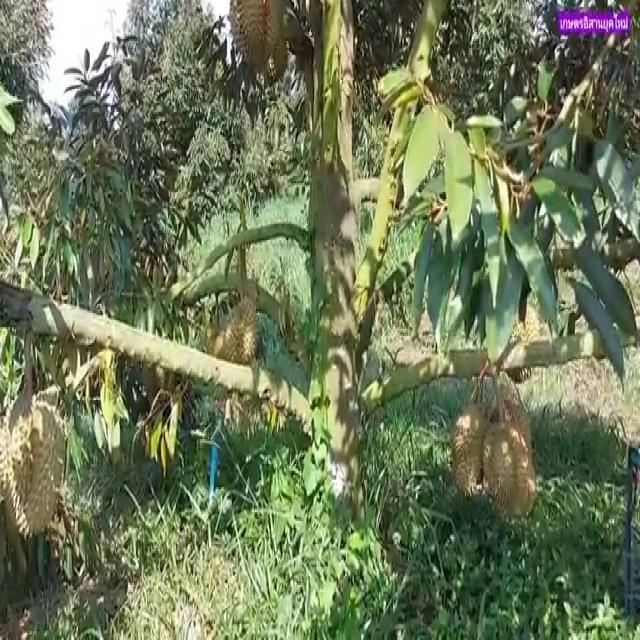durian: (0, 391, 68, 546), (201, 292, 260, 409), (481, 417, 538, 522), (228, 0, 285, 77), (450, 402, 494, 500)
